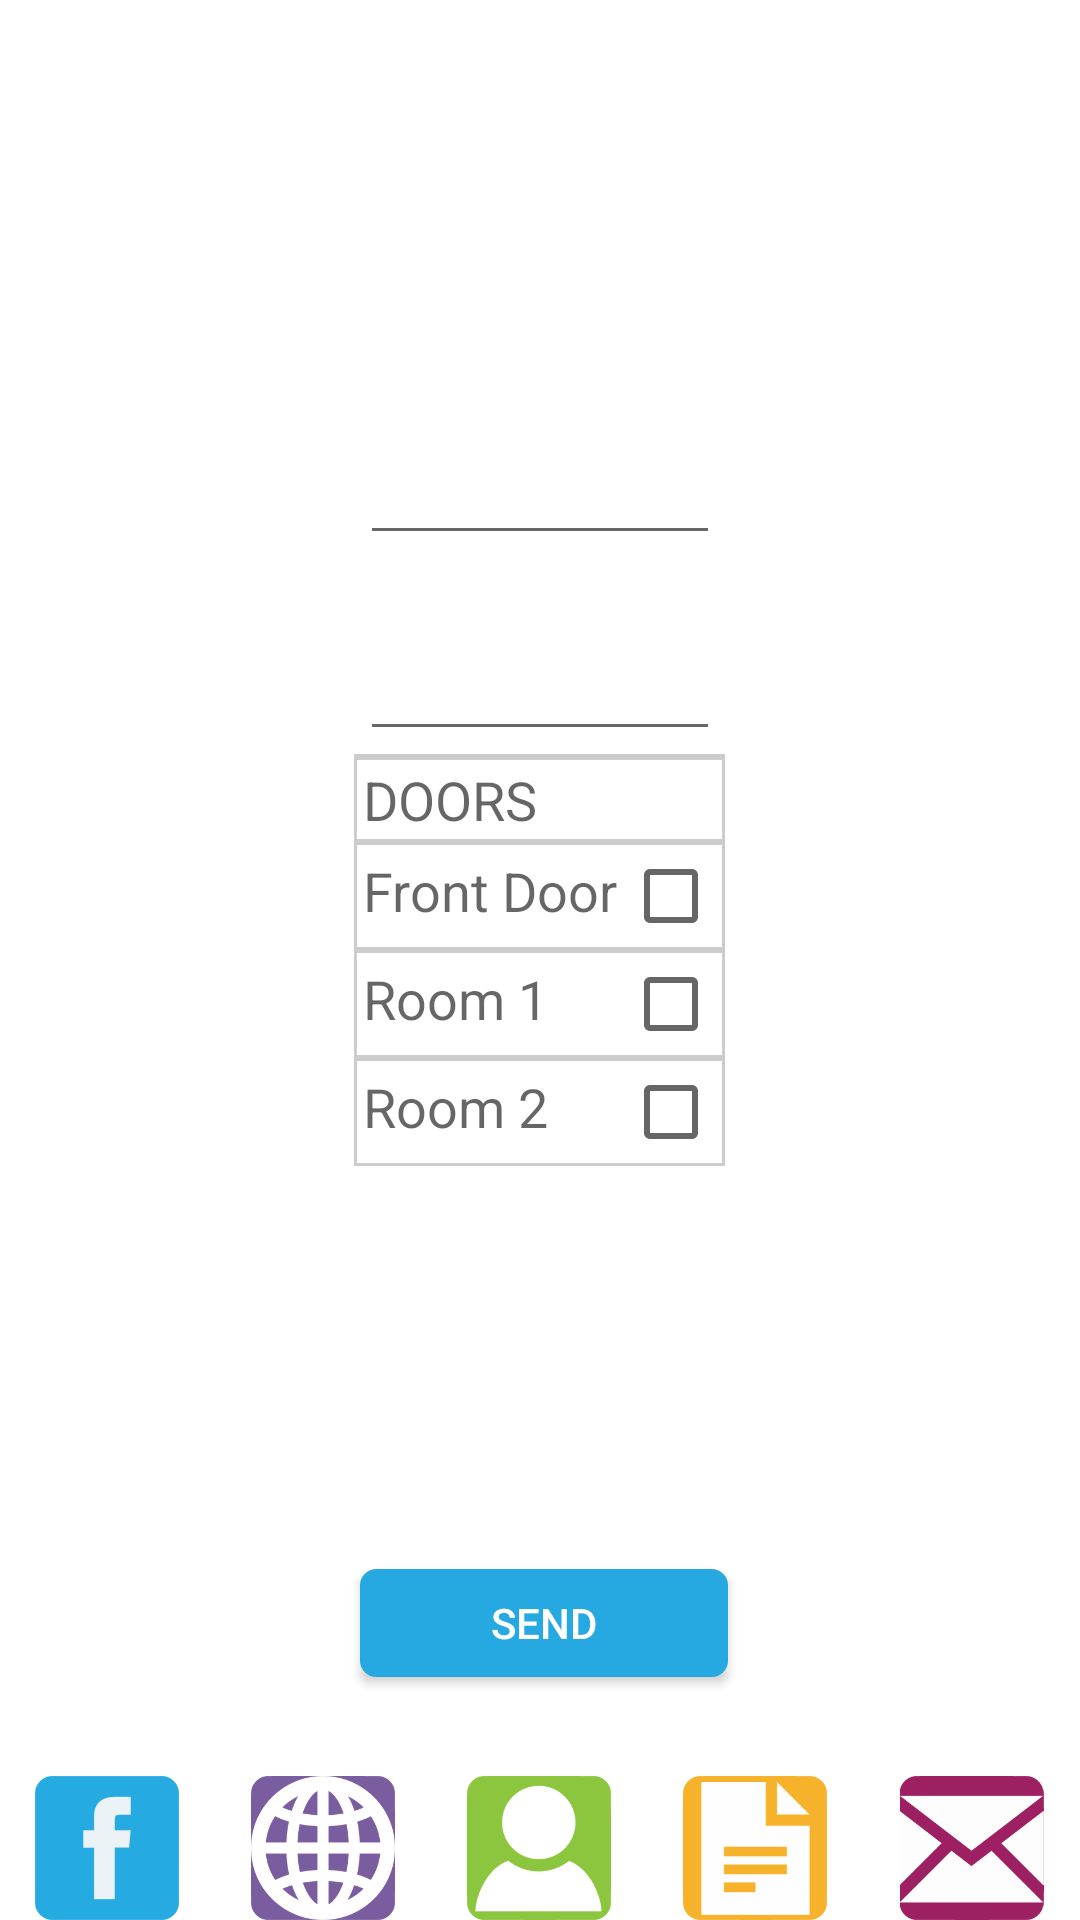

Screen size 1080x1920. Icon name, then its box in pixels as (left=x1, top=y1, right=x2, bottom=y2):
about: (left=467, top=1776, right=611, bottom=1920)
mail: (left=900, top=1776, right=1044, bottom=1920)
works: (left=683, top=1776, right=827, bottom=1920)
world: (left=251, top=1776, right=395, bottom=1920)
